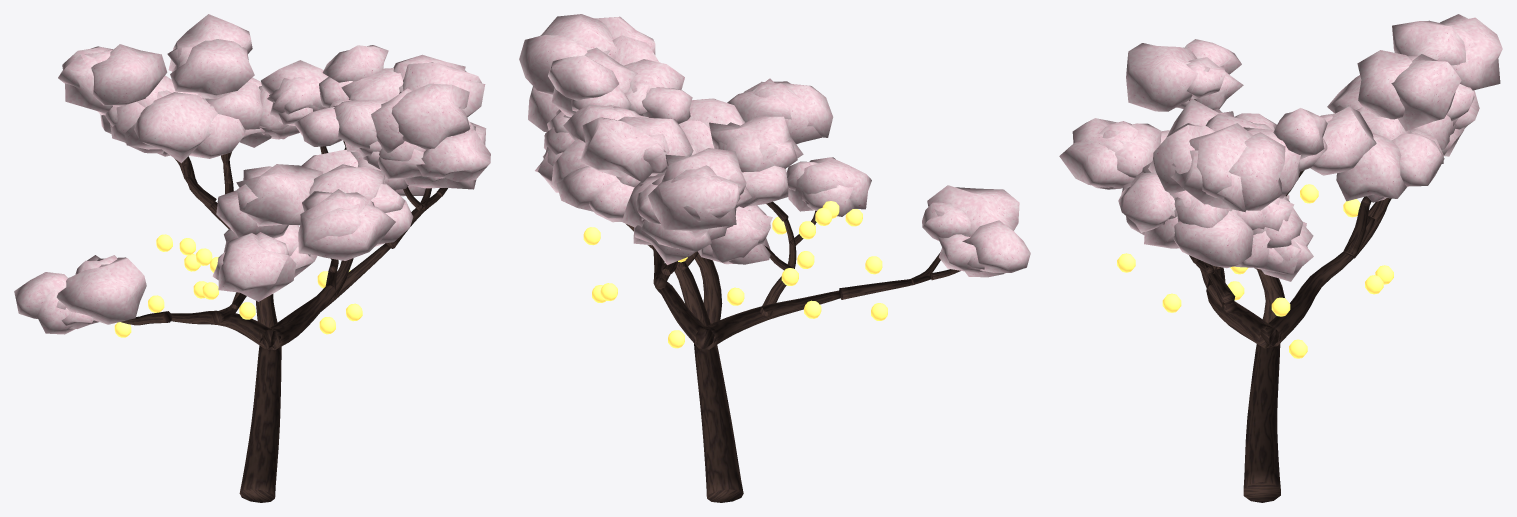
The model's file is peach_tree.glb.
3 renders of one model, left to right at view 1: azimuth 30°, elevation 25°; view 2: azimuth 150°, elevation 25°; view 3: azimuth 270°, elevation 25°, orthographic. The views are drawn at different scales.
Parts seen in each view (by area): view 1: PlumBlossoms, PlumTrunk, Peaches; view 2: PlumBlossoms, PlumTrunk, Peaches; view 3: PlumBlossoms, PlumTrunk, Peaches.
Boxes of the visible parts, left/top/right/bottom form: PlumBlossoms: left=14, top=14, right=490, bottom=334; PlumTrunk: left=121, top=141, right=447, bottom=502; Peaches: left=114, top=234, right=362, bottom=337; PlumBlossoms: left=519, top=14, right=1030, bottom=277; PlumTrunk: left=626, top=201, right=960, bottom=502; Peaches: left=583, top=201, right=887, bottom=348; PlumBlossoms: left=1059, top=14, right=1502, bottom=281; PlumTrunk: left=1189, top=99, right=1391, bottom=502; Peaches: left=1117, top=184, right=1393, bottom=358.
Size of what is drawn, in the model's own units: 8.54 by 7.12 by 6.33.
Materials: 3 (2 with a texture image).
